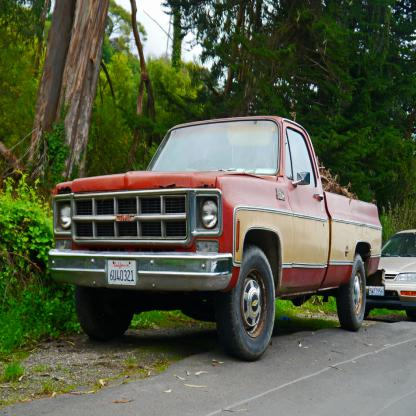Car: (363, 229, 416, 321)
Truck: (48, 116, 383, 361)
